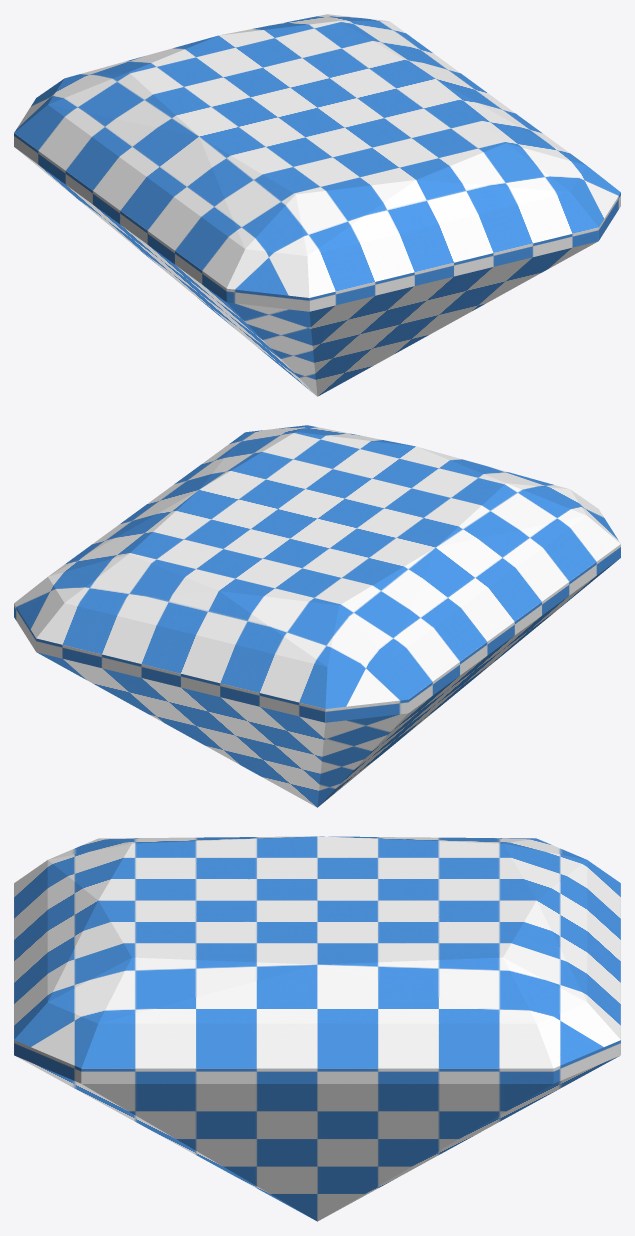
File: RadiantCutPointy.FBX
3 views of the same model, one above another, from view 1: azimuth 30°, elevation 25°; view 2: azimuth 150°, elevation 25°; view 3: azimuth 270°, elevation 25° (orthographic). The views are drawn at different scales.
Visible parts, largest first — view 1: RadiantCutPointy; view 2: RadiantCutPointy; view 3: RadiantCutPointy.
Part boxes in pixels (x1,y1,x2,y2): RadiantCutPointy: (14, 14, 620, 396); RadiantCutPointy: (14, 425, 620, 807); RadiantCutPointy: (14, 836, 620, 1221).
Size of the model in its own units: 0.9525 by 0.6667 by 1.14.
